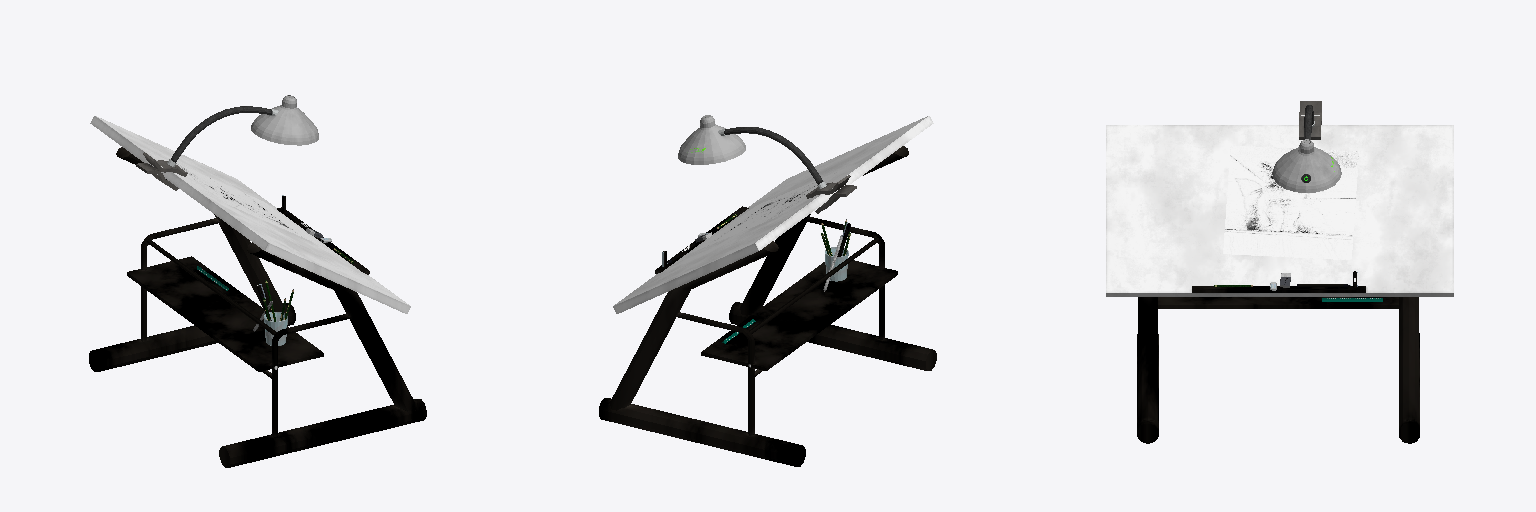
The picture shows the model from 3 angles: view 1: azimuth 30°, elevation 25°; view 2: azimuth 150°, elevation 25°; view 3: azimuth 270°, elevation 25°; orthographic projection.
Parts seen in each view (by area): view 1: polySurface46_MesaDesenho:initialShadingGroup1_0, polySurface49_MesaDesenho:initialShadingGroup1_0, polySurface51_MesaDesenho:initialShadingGroup1_0, polySurface53_Luminaria_Mat_0, polySurface41_MesaDesenho:initialShadingGroup1_0, polySurface47_MesaDesenho:initialShadingGroup1_0, Plane, polySurface43_MesaDesenho:initialShadingGroup1_0, polySurface50_MesaDesenho:initialShadingGroup1_0, polySurface44_MesaDesenho:initialShadingGroup1_0, polySurface45_MesaDesenho:initialShadingGroup1_0; view 2: polySurface46_MesaDesenho:initialShadingGroup1_0, polySurface49_MesaDesenho:initialShadingGroup1_0, polySurface47_MesaDesenho:initialShadingGroup1_0, polySurface53_Luminaria_Mat_0, polySurface43_MesaDesenho:initialShadingGroup1_0, polySurface51_MesaDesenho:initialShadingGroup1_0, polySurface41_MesaDesenho:initialShadingGroup1_0, Plane, polySurface44_MesaDesenho:initialShadingGroup1_0, polySurface50_MesaDesenho:initialShadingGroup1_0, polySurface45_MesaDesenho:initialShadingGroup1_0; view 3: polySurface46_MesaDesenho:initialShadingGroup1_0, Plane, polySurface53_Luminaria_Mat_0, polySurface49_MesaDesenho:initialShadingGroup1_0, polySurface41_MesaDesenho:initialShadingGroup1_0, polySurface43_MesaDesenho:initialShadingGroup1_0, polySurface48_MesaDesenho:initialShadingGroup1_0, polySurface51_MesaDesenho:initialShadingGroup1_0.
Boxes of the visible parts, <box> form: polySurface46_MesaDesenho:initialShadingGroup1_0: <box>90,116,410,313</box>; polySurface49_MesaDesenho:initialShadingGroup1_0: <box>127,256,323,371</box>; polySurface51_MesaDesenho:initialShadingGroup1_0: <box>219,399,426,467</box>; polySurface53_Luminaria_Mat_0: <box>136,95,318,190</box>; polySurface41_MesaDesenho:initialShadingGroup1_0: <box>247,242,415,411</box>; polySurface47_MesaDesenho:initialShadingGroup1_0: <box>89,303,295,371</box>; Plane: <box>176,163,321,245</box>; polySurface43_MesaDesenho:initialShadingGroup1_0: <box>116,147,285,312</box>; polySurface50_MesaDesenho:initialShadingGroup1_0: <box>272,314,350,437</box>; polySurface44_MesaDesenho:initialShadingGroup1_0: <box>141,218,219,341</box>; polySurface45_MesaDesenho:initialShadingGroup1_0: <box>147,239,276,335</box>; polySurface46_MesaDesenho:initialShadingGroup1_0: <box>613,116,933,313</box>; polySurface49_MesaDesenho:initialShadingGroup1_0: <box>701,260,897,370</box>; polySurface47_MesaDesenho:initialShadingGroup1_0: <box>599,398,805,466</box>; polySurface53_Luminaria_Mat_0: <box>678,115,856,213</box>; polySurface43_MesaDesenho:initialShadingGroup1_0: <box>610,241,778,410</box>; polySurface51_MesaDesenho:initialShadingGroup1_0: <box>729,302,936,370</box>; polySurface41_MesaDesenho:initialShadingGroup1_0: <box>740,146,908,315</box>; Plane: <box>689,168,845,253</box>; polySurface44_MesaDesenho:initialShadingGroup1_0: <box>676,312,754,434</box>; polySurface50_MesaDesenho:initialShadingGroup1_0: <box>806,217,884,339</box>; polySurface45_MesaDesenho:initialShadingGroup1_0: <box>749,238,878,333</box>; polySurface46_MesaDesenho:initialShadingGroup1_0: <box>1106,125,1453,296</box>; Plane: <box>1223,145,1358,259</box>; polySurface53_Luminaria_Mat_0: <box>1272,101,1341,192</box>; polySurface49_MesaDesenho:initialShadingGroup1_0: <box>1158,297,1398,308</box>; polySurface41_MesaDesenho:initialShadingGroup1_0: <box>1138,297,1157,422</box>; polySurface43_MesaDesenho:initialShadingGroup1_0: <box>1399,297,1418,422</box>; polySurface48_MesaDesenho:initialShadingGroup1_0: <box>1192,286,1365,292</box>; polySurface51_MesaDesenho:initialShadingGroup1_0: <box>1137,334,1158,443</box>.
Bounding box in the file's own units: 16.43 × 22.09 × 25.
10 materials, 10 textured.